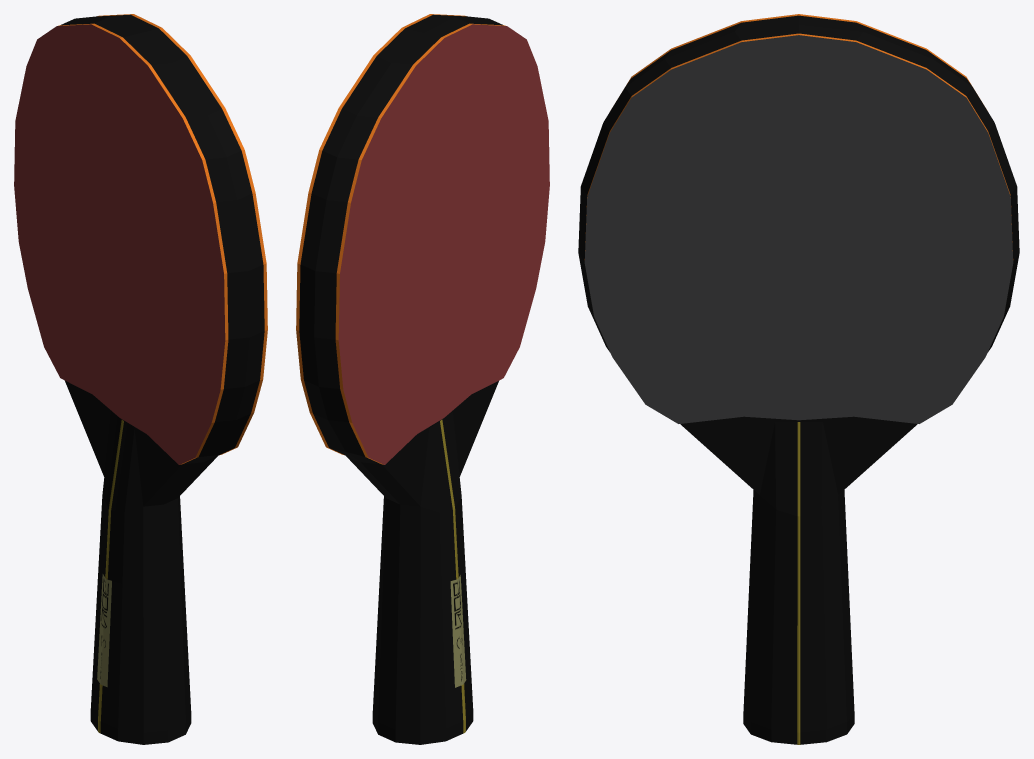
Rendered from pingPongRackets.glb.
The picture shows the model from 3 angles, left to right: view 1: azimuth 30°, elevation 25°; view 2: azimuth 150°, elevation 25°; view 3: azimuth 270°, elevation 25°; orthographic projection.
Parts seen in each view (by area): view 1: PingPongPaddle; view 2: PingPongPaddle; view 3: PingPongPaddle.
Boxes of the visible parts, <box> form: PingPongPaddle: <box>14,14,267,744</box>; PingPongPaddle: <box>296,14,549,744</box>; PingPongPaddle: <box>578,14,1019,744</box>.
Bounding box in the file's own units: 0.5446 × 4.25 × 2.43.
Materials: 6 (1 with a texture image).
